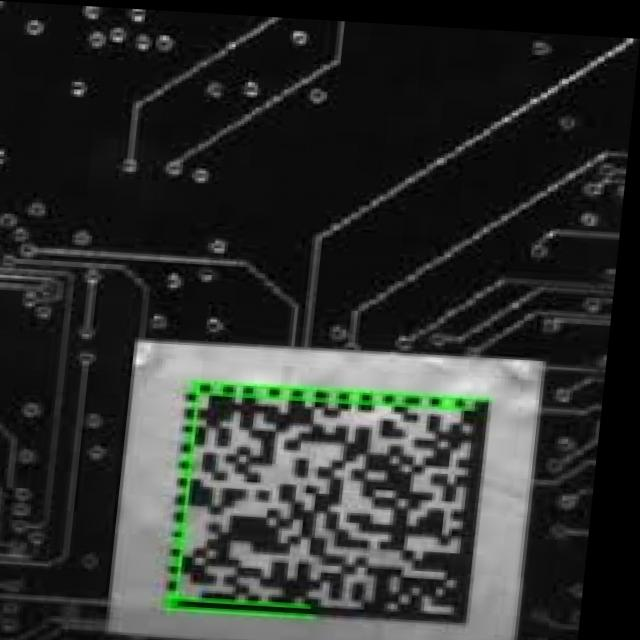datamatrix: (174, 376, 508, 627)
